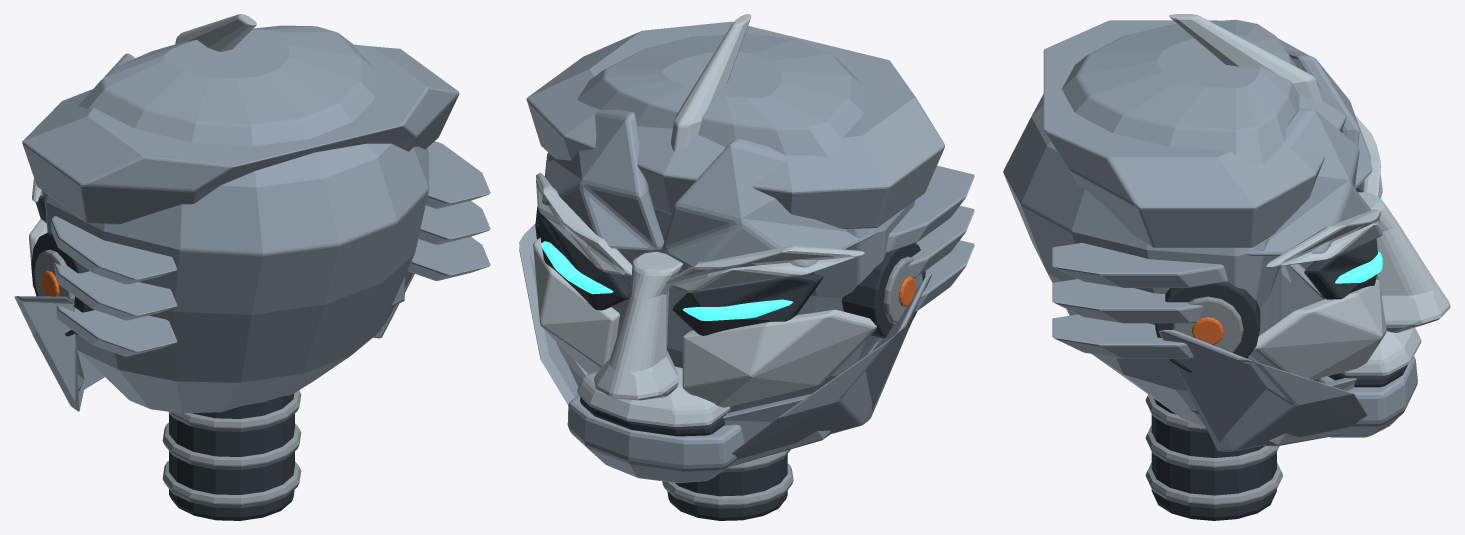
The picture shows the model from 3 angles, left to right: view 1: azimuth 30°, elevation 25°; view 2: azimuth 150°, elevation 25°; view 3: azimuth 270°, elevation 25°; orthographic projection. The views are drawn at different scales.
Parts seen in each view (by area): view 1: Head_hero; view 2: Head_hero; view 3: Head_hero.
Boxes of the visible parts, box(x1,y1,x2,y2) form: Head_hero: box(14, 14, 490, 520); Head_hero: box(519, 14, 974, 520); Head_hero: box(1003, 14, 1450, 520).
Size of the model in its own units: 0.5229 by 0.6166 by 0.5192.
